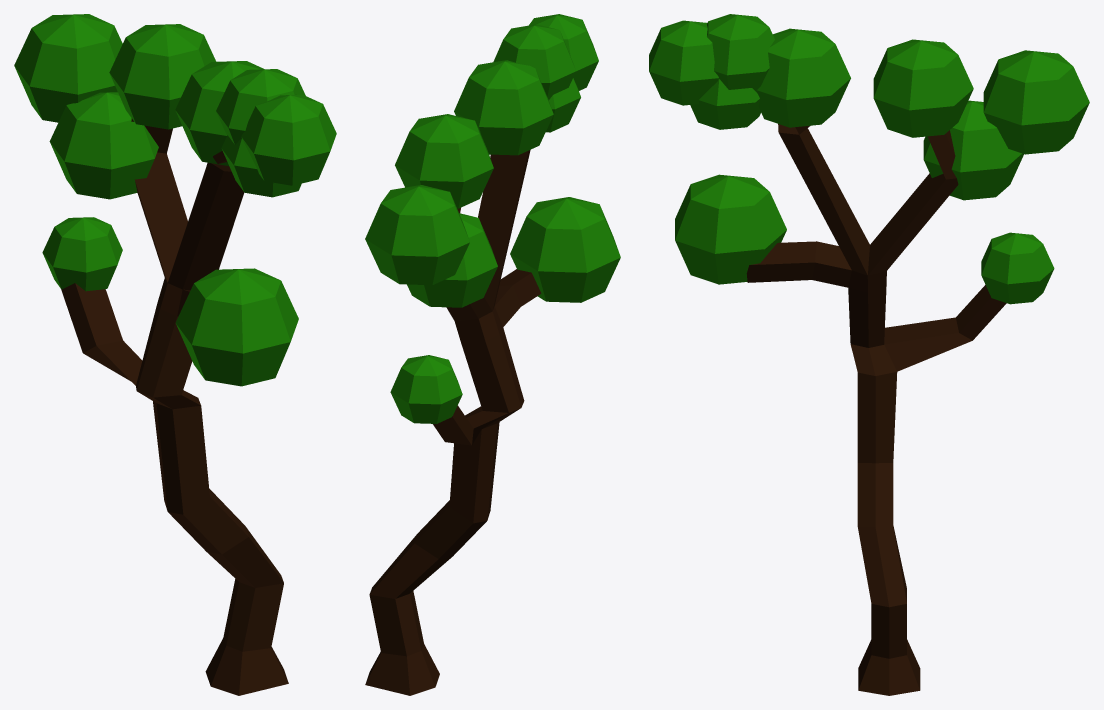
The model's file is tree_02.fbx.
3 views of the same model, side by side, from view 1: azimuth 30°, elevation 25°; view 2: azimuth 150°, elevation 25°; view 3: azimuth 270°, elevation 25° (orthographic). The views are drawn at different scales.
Parts seen in each view (by area): view 1: Cube, Sphere.013, Sphere.011, Sphere.012, Sphere.010, Sphere.005, Sphere.014, Sphere.003, Sphere.006, Sphere.002; view 2: Cube, Sphere.013, Sphere.012, Sphere.003, Sphere.010, Sphere.014, Sphere.011, Sphere.006, Sphere.005, Sphere.002; view 3: Cube, Sphere.013, Sphere.012, Sphere.010, Sphere.003, Sphere.011, Sphere.005, Sphere.014, Sphere.006, Sphere.002.
Part boxes in pixels (left/top/right/bottom): Cube: left=60, top=118, right=288, bottom=695; Sphere.013: left=175, top=268, right=298, bottom=386; Sphere.011: left=49, top=92, right=158, bottom=199; Sphere.012: left=14, top=14, right=122, bottom=122; Sphere.010: left=109, top=24, right=215, bottom=129; Sphere.005: left=241, top=94, right=336, bottom=185; Sphere.014: left=42, top=217, right=122, bottom=291; Sphere.003: left=175, top=61, right=264, bottom=165; Sphere.006: left=216, top=69, right=305, bottom=144; Sphere.002: left=221, top=135, right=301, bottom=197; Cube: left=365, top=150, right=541, bottom=695; Sphere.013: left=510, top=197, right=620, bottom=302; Sphere.012: left=365, top=185, right=469, bottom=285; Sphere.003: left=454, top=60, right=553, bottom=155; Sphere.010: left=395, top=114, right=493, bottom=208; Sphere.014: left=390, top=355, right=462, bottom=423; Sphere.011: left=407, top=213, right=497, bottom=307; Sphere.006: left=493, top=24, right=576, bottom=99; Sphere.005: left=529, top=14, right=598, bottom=90; Sphere.002: left=546, top=78, right=580, bottom=132; Cube: left=746, top=124, right=1006, bottom=695; Sphere.013: left=675, top=174, right=786, bottom=284; Sphere.012: left=983, top=50, right=1089, bottom=154; Sphere.010: left=873, top=39, right=973, bottom=137; Sphere.003: left=757, top=28, right=850, bottom=127; Sphere.011: left=923, top=100, right=1023, bottom=200; Sphere.005: left=649, top=20, right=718, bottom=105; Sphere.014: left=981, top=232, right=1054, bottom=304; Sphere.006: left=707, top=14, right=774, bottom=92; Sphere.002: left=690, top=79, right=760, bottom=129.
Bounding box in the file's own units: 1119 × 3933 × 2475.
